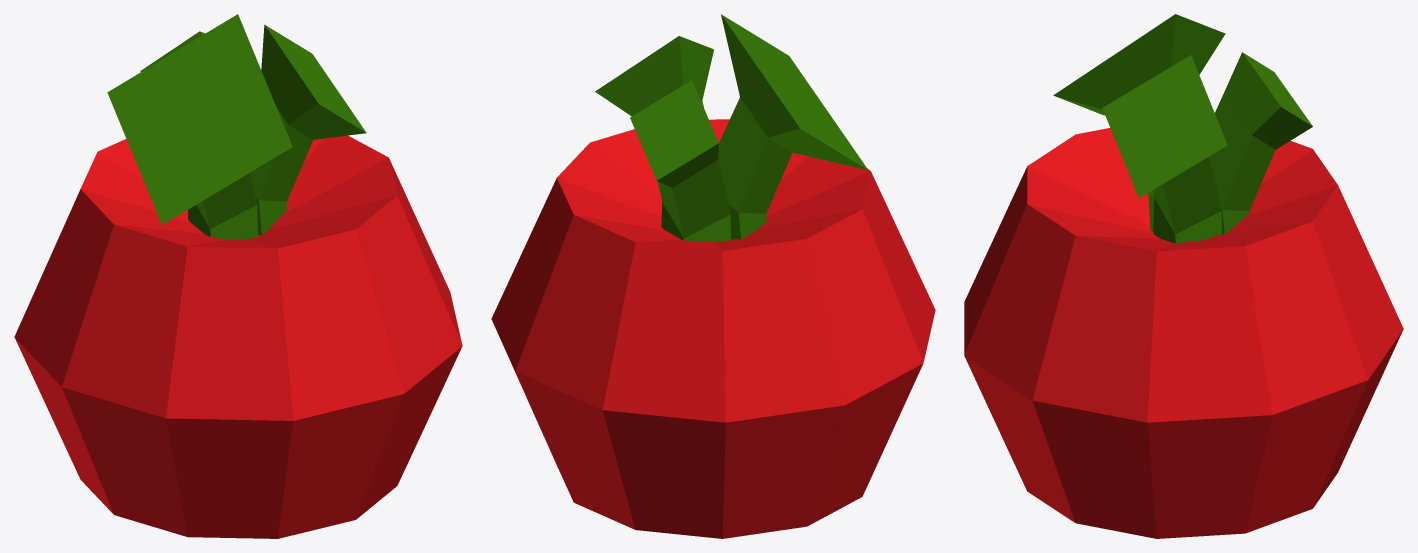
Rendered from tomato.fbx.
The picture shows the model from 3 angles, left to right: view 1: azimuth 30°, elevation 25°; view 2: azimuth 150°, elevation 25°; view 3: azimuth 270°, elevation 25°; orthographic projection.
Parts seen in each view (by area): view 1: Sphere.005; view 2: Sphere.005; view 3: Sphere.005.
Part boxes in pixels (box(x1,y1,x2,y2)): Sphere.005: box(14, 14, 462, 538); Sphere.005: box(491, 14, 935, 538); Sphere.005: box(964, 14, 1403, 538).
Bounding box in the file's own units: 198 × 254 × 196.
